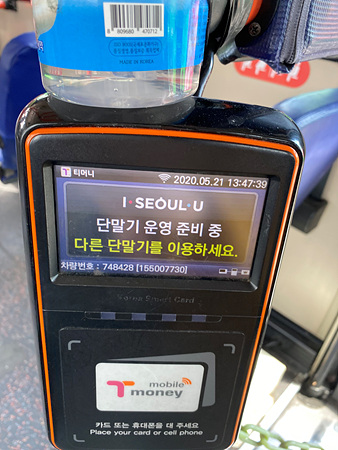terminal: (17, 89, 289, 438)
